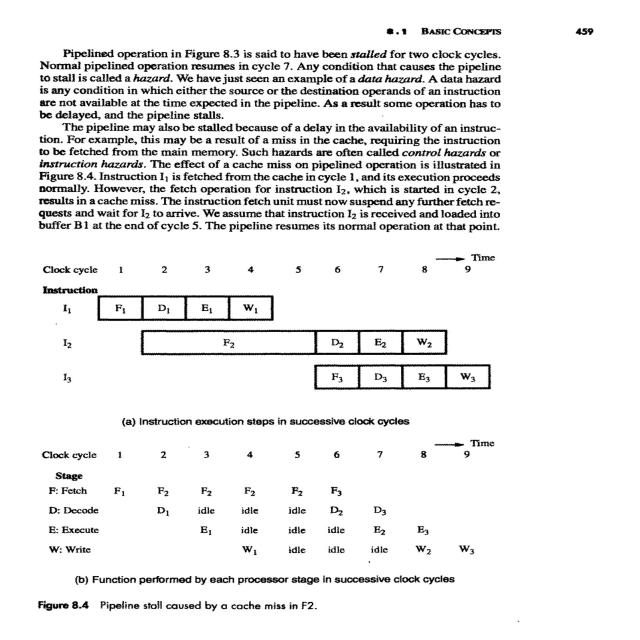diagram: (32, 247, 502, 615)
